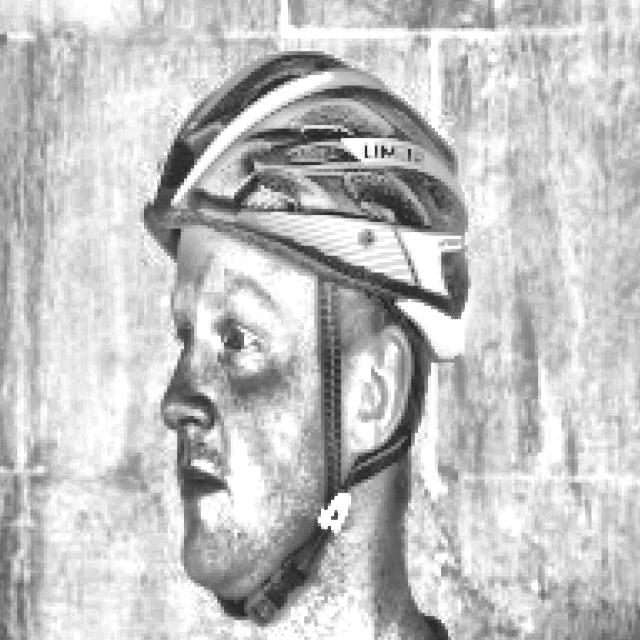Helmet: (131, 40, 483, 609)
